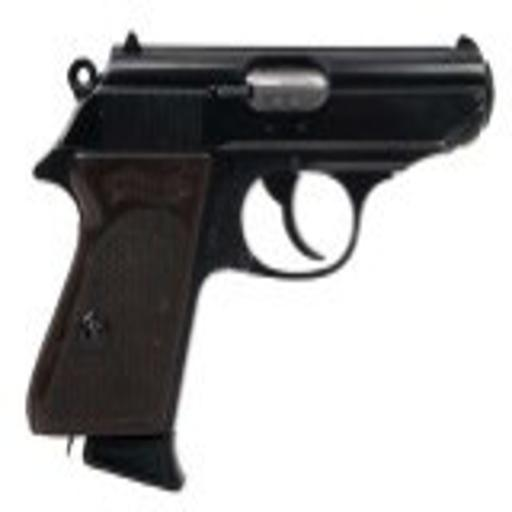Handgun: (15, 20, 498, 493)
